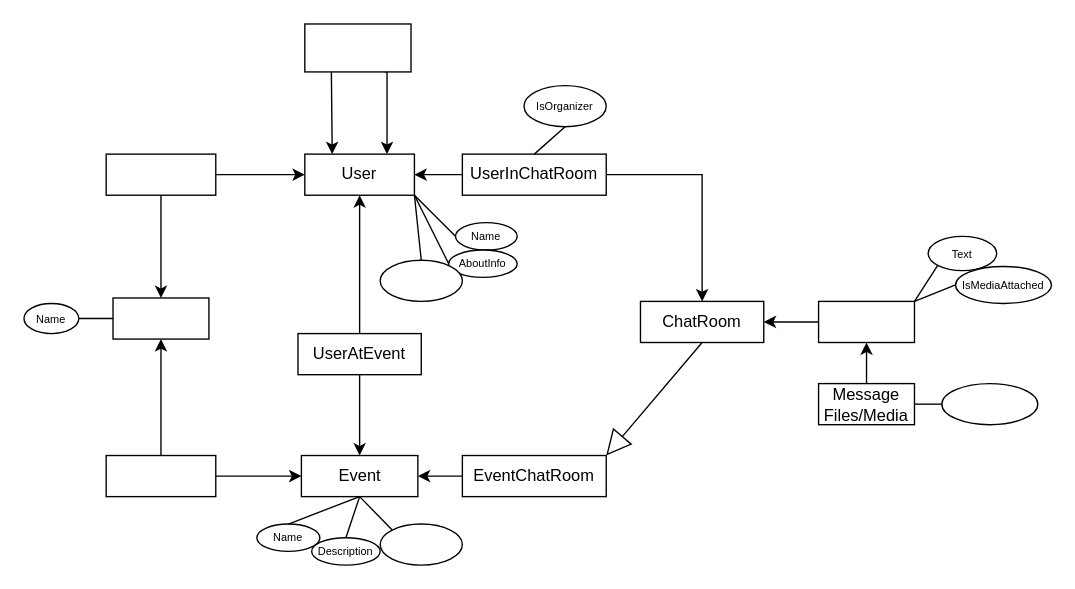
This 1075x589 diagram has some shape labels left out. Each missing label, with the box of its shape:
ArrangmentTime: (379, 523, 462, 565)
Avatar(path in file system): (379, 259, 462, 301)
Friendship: (303, 23, 411, 72)
Message: (817, 300, 914, 342)
PathInFileSystem: (941, 382, 1038, 425)
TopicTag: (112, 297, 209, 339)
TopicTag- User: (105, 153, 216, 195)
TopicTag-Event: (105, 454, 216, 497)
